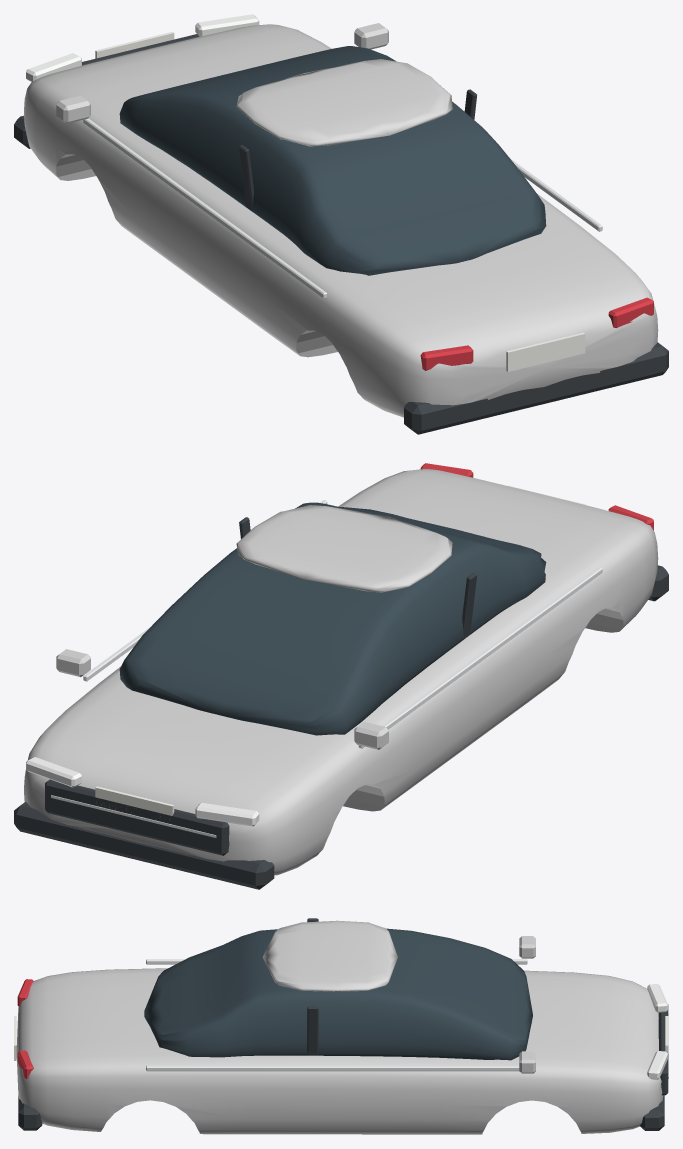
File: sedan.glb
The picture shows the model from 3 angles, top to bottom: view 1: azimuth 30°, elevation 25°; view 2: azimuth 150°, elevation 25°; view 3: azimuth 270°, elevation 25°; orthographic projection. The views are drawn at different scales.
Visible parts, largest first — view 1: paint_body, glass_house, roof, bumper_r, chrome_beltline, plate.001, tail_lamp, head_lamp.001, tail_lamp.001, mirror, chrome_beltline.001, head_lamp (+3 smaller); view 2: paint_body, glass_house, roof, black_grille, bumper_f, chrome_beltline, head_lamp, plate, head_lamp.001, mirror, mirror.001, black_bpillar; view 3: paint_body, glass_house, roof, chrome_beltline.001, black_bpillar.001, black_grille, bumper_r, bumper_f, head_lamp.001, head_lamp, mirror.001, mirror.
Part boxes in pixels (box(x1,y1,x2,y2)): paint_body: box(24, 24, 658, 417); glass_house: box(119, 46, 546, 275); roof: box(236, 59, 452, 146); bumper_r: box(404, 342, 668, 434); chrome_beltline: box(83, 118, 327, 298); plate.001: box(506, 332, 585, 371); tail_lamp: box(420, 345, 473, 370); head_lamp.001: box(195, 14, 259, 36); tail_lamp.001: box(608, 297, 653, 327); mirror: box(56, 95, 90, 123); chrome_beltline.001: box(510, 158, 602, 231); head_lamp: box(26, 53, 81, 81); paint_body: box(24, 469, 658, 875); glass_house: box(119, 502, 546, 735); roof: box(236, 505, 452, 592); black_grille: box(45, 779, 229, 855); bumper_f: box(14, 801, 274, 889); chrome_beltline: box(358, 567, 602, 748); head_lamp: box(195, 802, 259, 826); plate: box(95, 786, 174, 816); head_lamp.001: box(26, 757, 81, 787); mirror: box(354, 721, 388, 749); mirror.001: box(56, 649, 90, 677); black_bpillar: box(462, 572, 477, 639); paint_body: box(16, 968, 663, 1134); glass_house: box(144, 928, 532, 1060); roof: box(262, 920, 397, 991); chrome_beltline.001: box(146, 1065, 519, 1071); black_bpillar.001: box(307, 1006, 318, 1055); black_grille: box(658, 1004, 668, 1095); bumper_r: box(18, 1096, 42, 1130); bumper_f: box(640, 1095, 664, 1130); head_lamp.001: box(647, 1051, 667, 1079); head_lamp: box(647, 984, 667, 1012); mirror.001: box(519, 1051, 535, 1073); mirror: box(519, 936, 535, 958).
Size of the model in its own units: 2.11 by 1.07 by 4.63.
